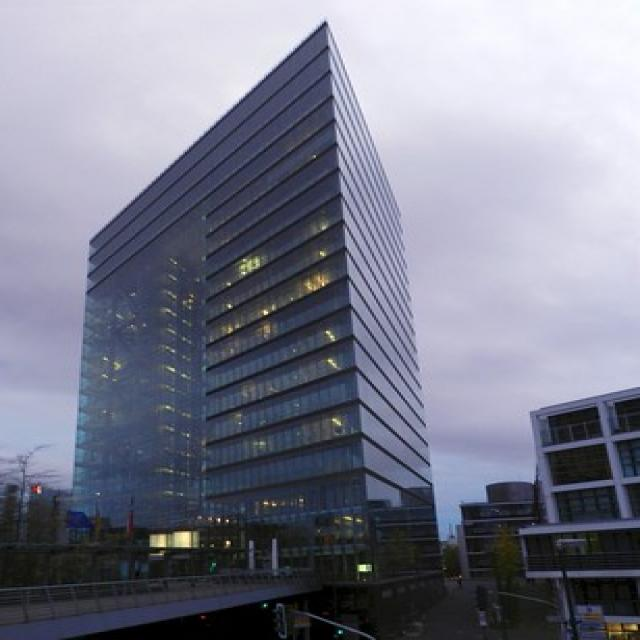Normal_building: (63, 13, 450, 592)
